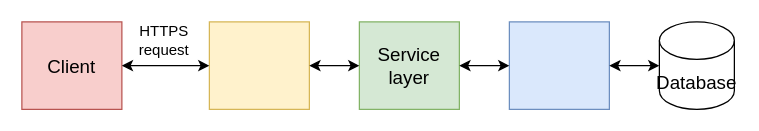
Image size: 759x131. Some labels were removed from this diagram. The box of each missing label's shape, as (x1, y1, x2, y2) in pixels:
Controller: (208, 21, 309, 109)
Repository or DAO layer: (508, 21, 609, 109)
